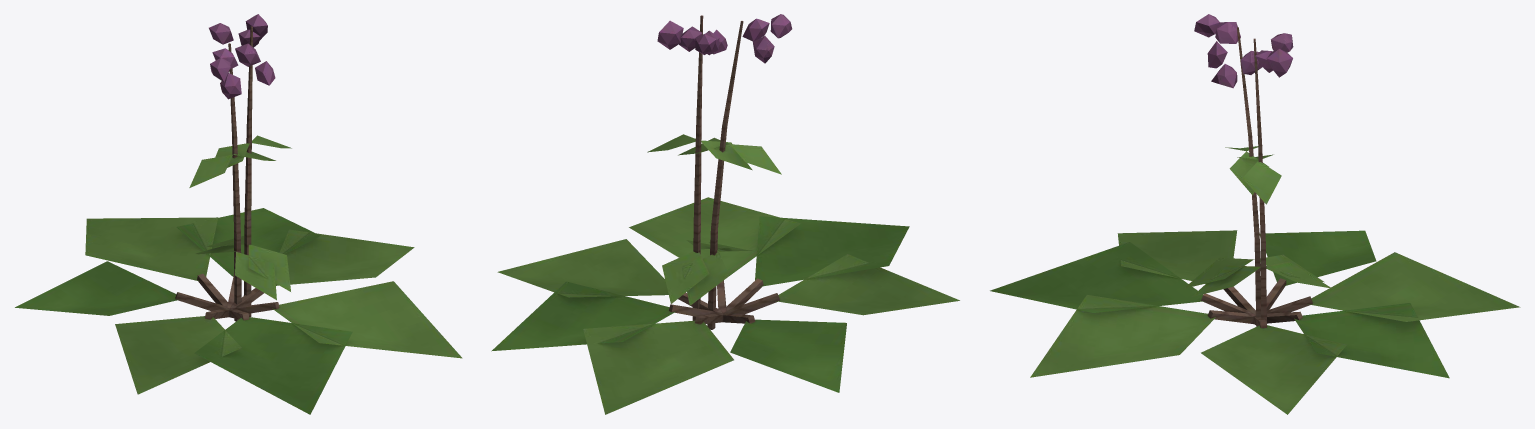
Rendered from weed_burdock_idle.glb.
The picture shows the model from 3 angles, left to right: view 1: azimuth 30°, elevation 25°; view 2: azimuth 150°, elevation 25°; view 3: azimuth 270°, elevation 25°; orthographic projection. The views are drawn at different scales.
Visible parts, largest first — view 1: weed_burdock; view 2: weed_burdock; view 3: weed_burdock.
Boxes of the visible parts, box(x1,y1,x2,y2) form: weed_burdock: box(15, 14, 462, 414); weed_burdock: box(491, 14, 959, 414); weed_burdock: box(990, 14, 1520, 414).
Size of the model in its own units: 0.9437 by 0.7279 by 1.16.
Materials: 1 (1 with a texture image).
